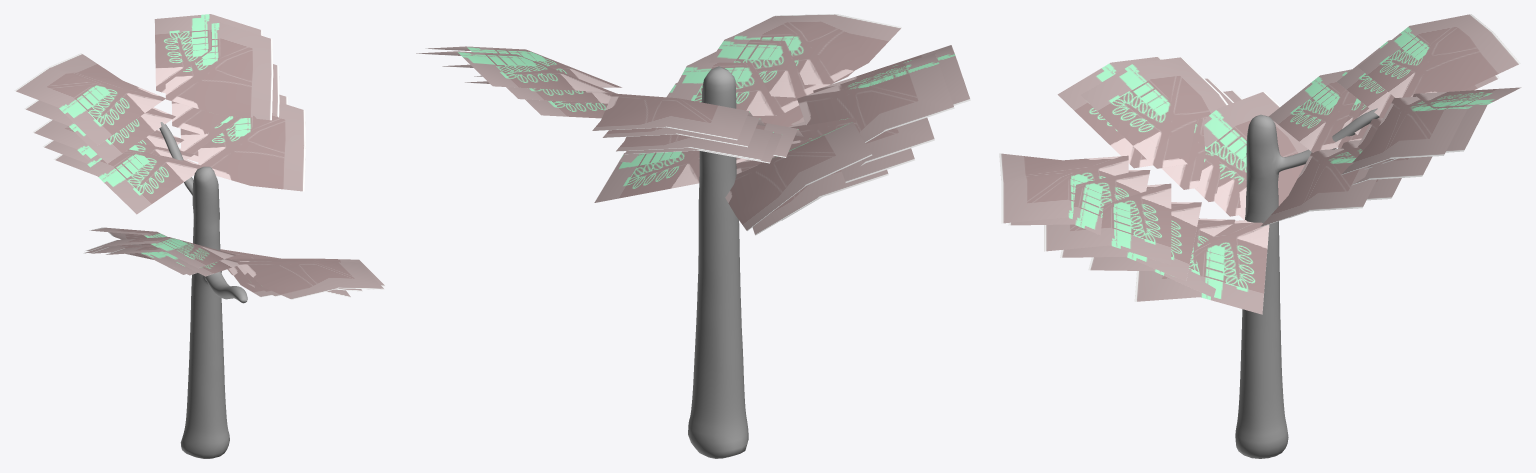
The model's file is Tree_2_without_Leafs_One.fbx.
3 renders of one model, left to right at view 1: azimuth 30°, elevation 25°; view 2: azimuth 150°, elevation 25°; view 3: azimuth 270°, elevation 25°, orthographic. The views are drawn at different scales.
Parts seen in each view (by area): view 1: pPlane141, polySurface28; view 2: pPlane141, polySurface28; view 3: pPlane141, polySurface28.
Part boxes in pixels (<box>): pPlane141: <box>14,14,385,299</box>; polySurface28: <box>159,122,247,458</box>; pPlane141: <box>416,14,970,235</box>; polySurface28: <box>688,66,748,458</box>; pPlane141: <box>999,14,1521,314</box>; polySurface28: <box>1199,108,1379,458</box>.
Size of the model in its own units: 3.06 by 3.48 by 4.06.
2 materials, 1 textured.
